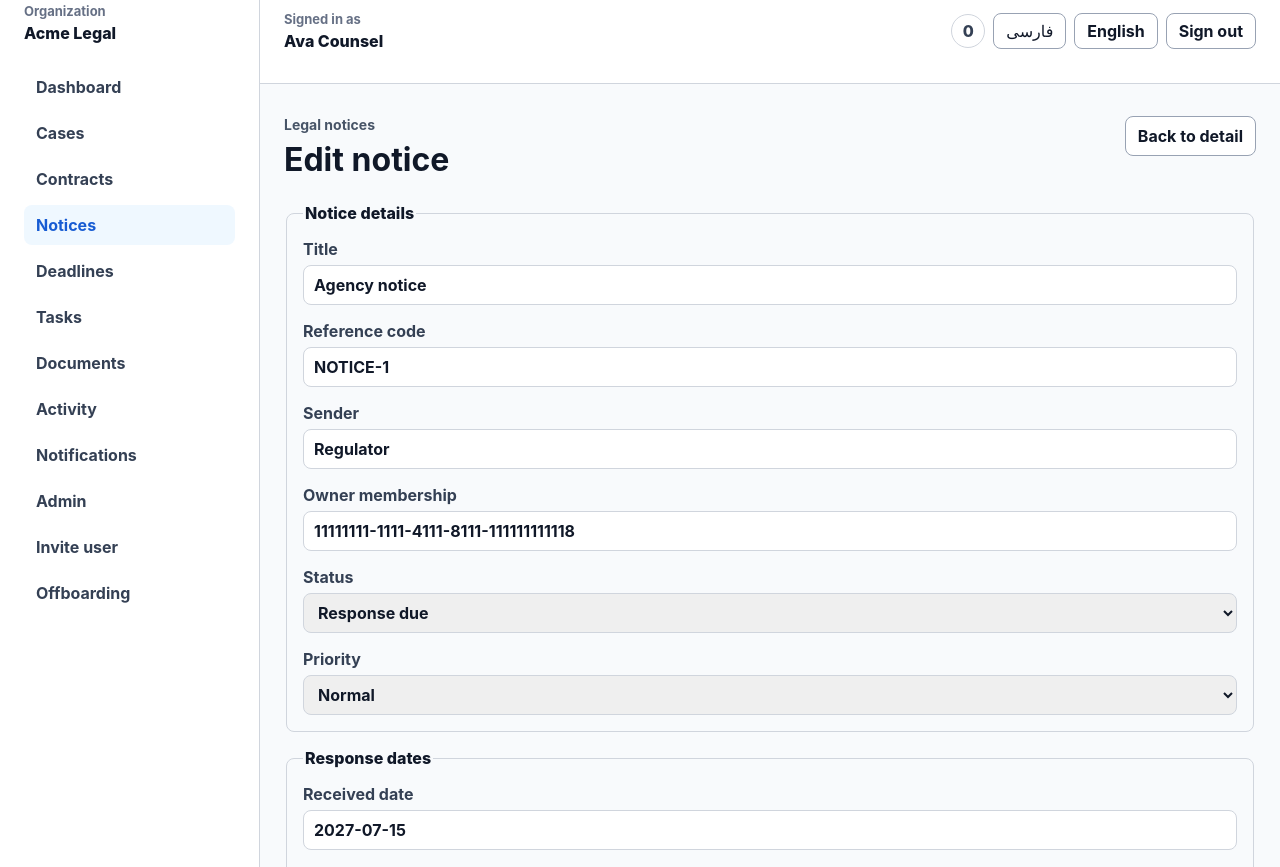
Test: shows version conflict without clearing edited input
The width and height of the screenshot is (1280, 867).
Replace the text in the field labelled "Title" with "Edited notice title" at (770,285), box x1=303 y1=265 x2=1237 y2=305
(page scrolled)
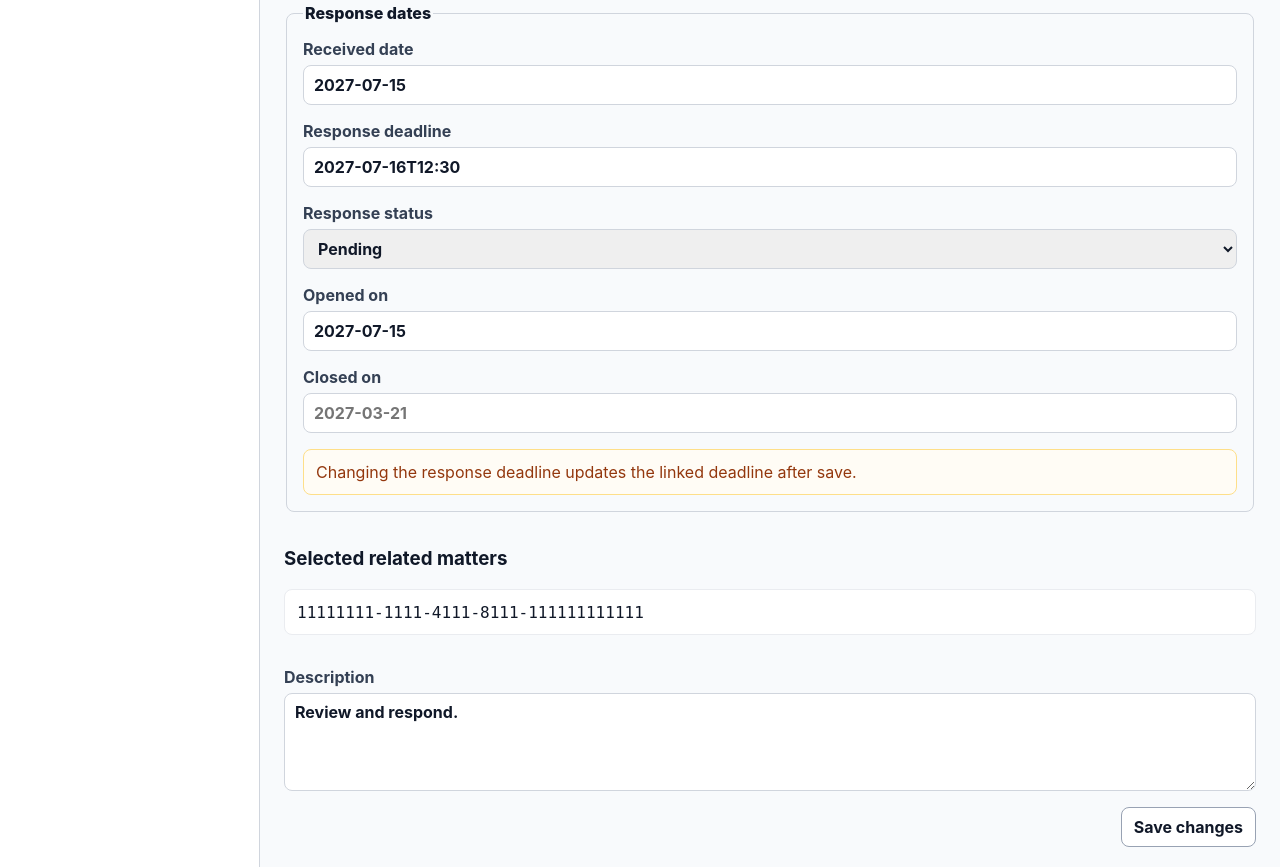
Click the button "Save changes".
click(1188, 827)  # box x1=1121 y1=807 x2=1256 y2=847
(page scrolled)
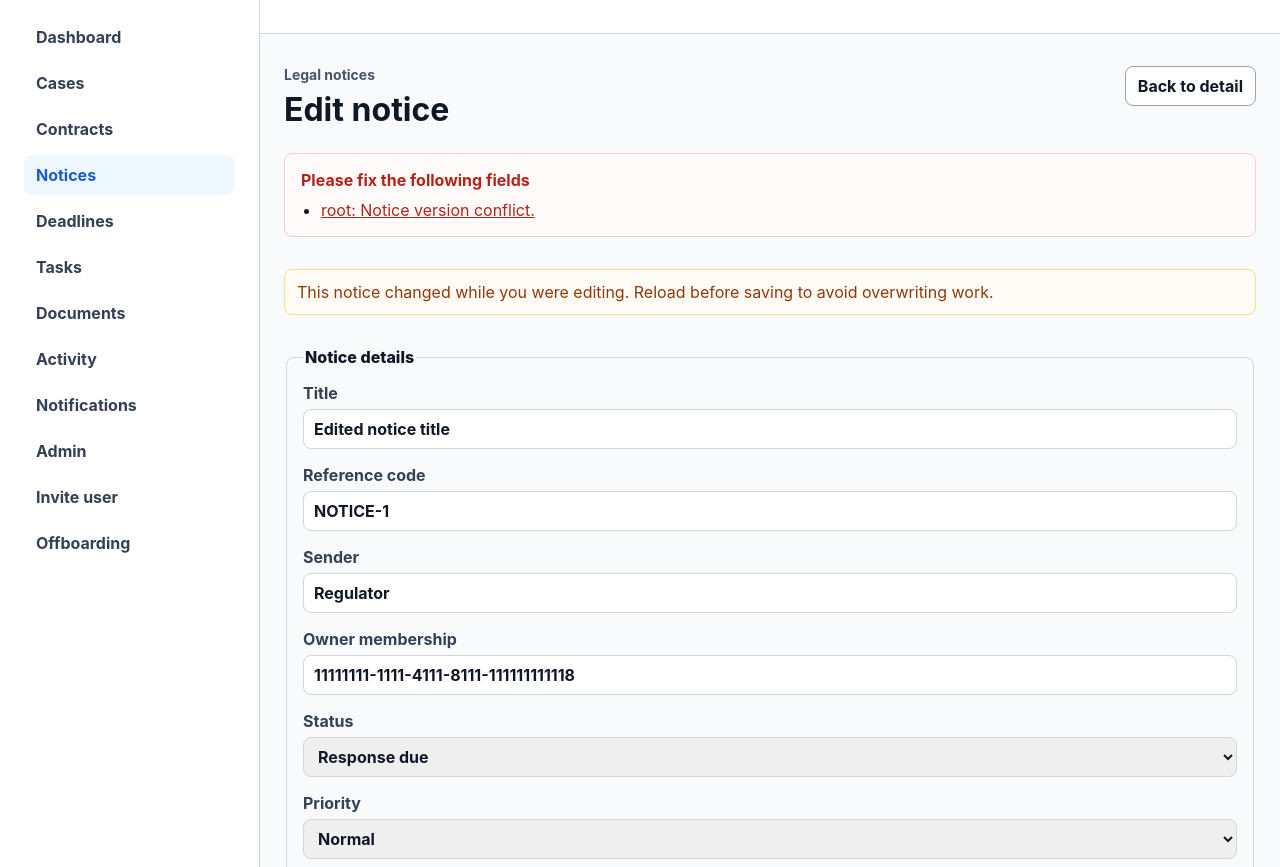
Expected: the text "changed while you were editing" is shown, x1=297 y1=282 x2=994 y2=302
